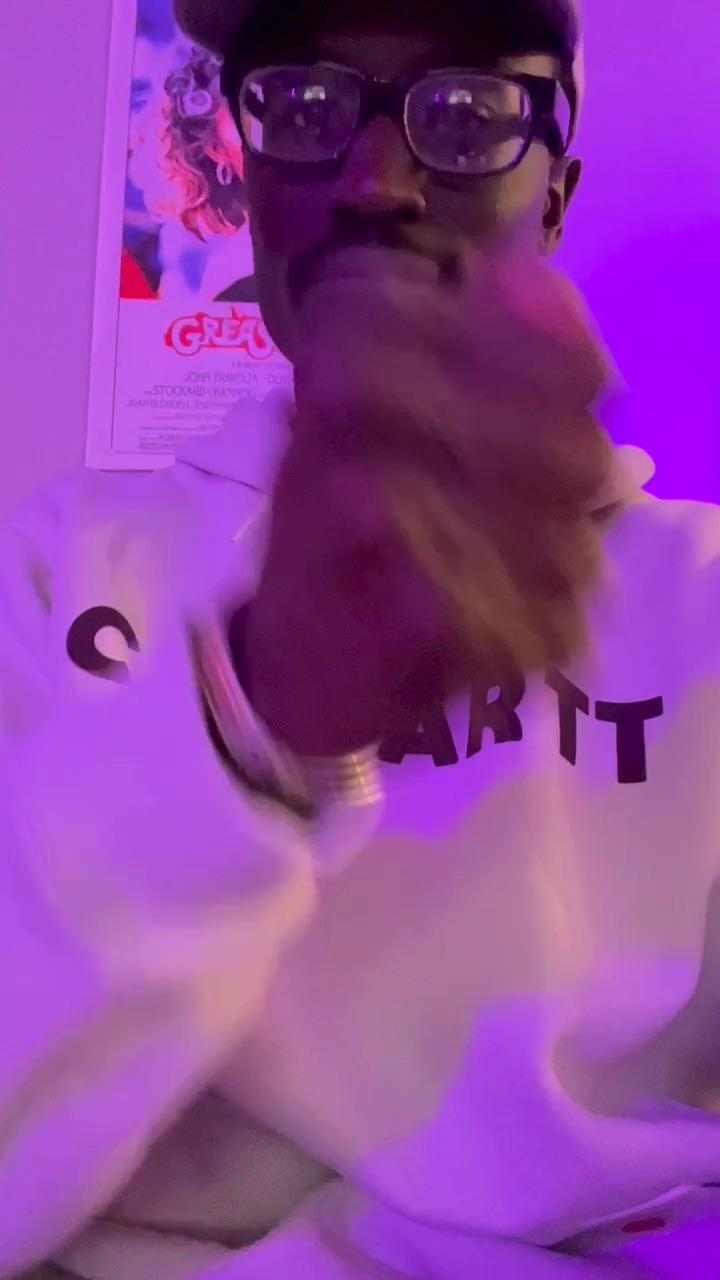Rock: (252, 260, 613, 704)
